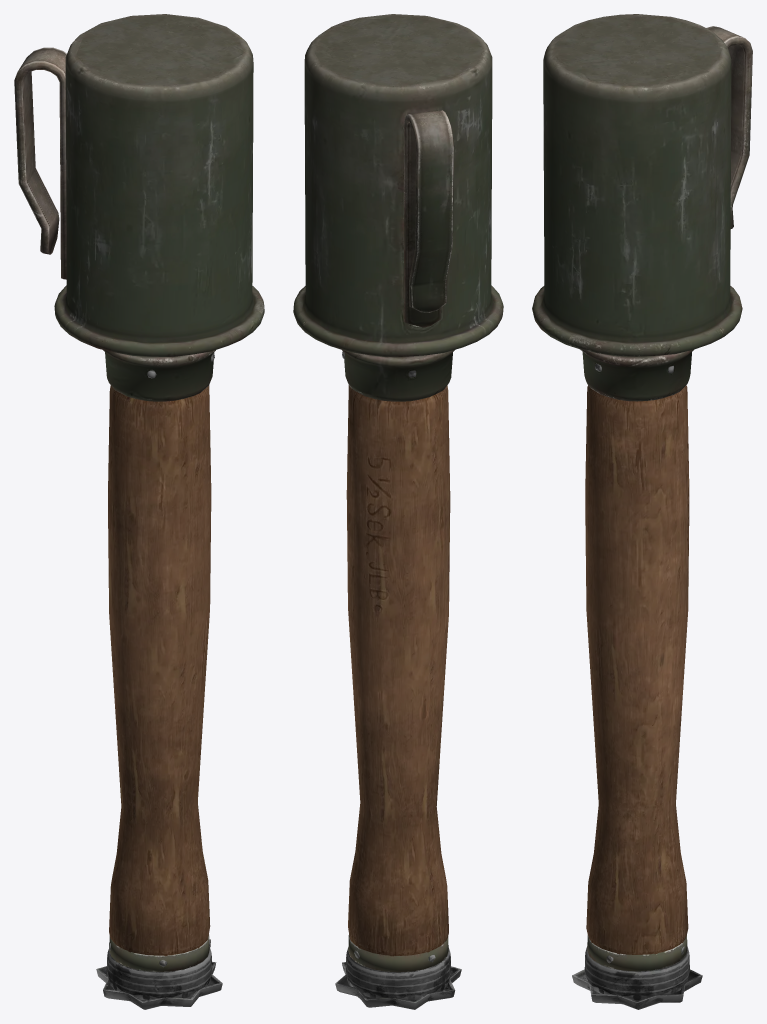
The model's file is stick_grenade.glb.
3 renders of one model, left to right at view 1: azimuth 30°, elevation 25°; view 2: azimuth 150°, elevation 25°; view 3: azimuth 270°, elevation 25°, orthographic.
Visible parts, largest first — view 1: stick_grenade; view 2: stick_grenade; view 3: stick_grenade.
Boxes of the visible parts, bbox=[...] form: stick_grenade: bbox=[14, 14, 264, 1009]; stick_grenade: bbox=[293, 14, 503, 1009]; stick_grenade: bbox=[532, 14, 752, 1009].
Bounding box in the file's own units: 0.0812 × 0.3794 × 0.0812.
Materials: 1 (1 with a texture image).
